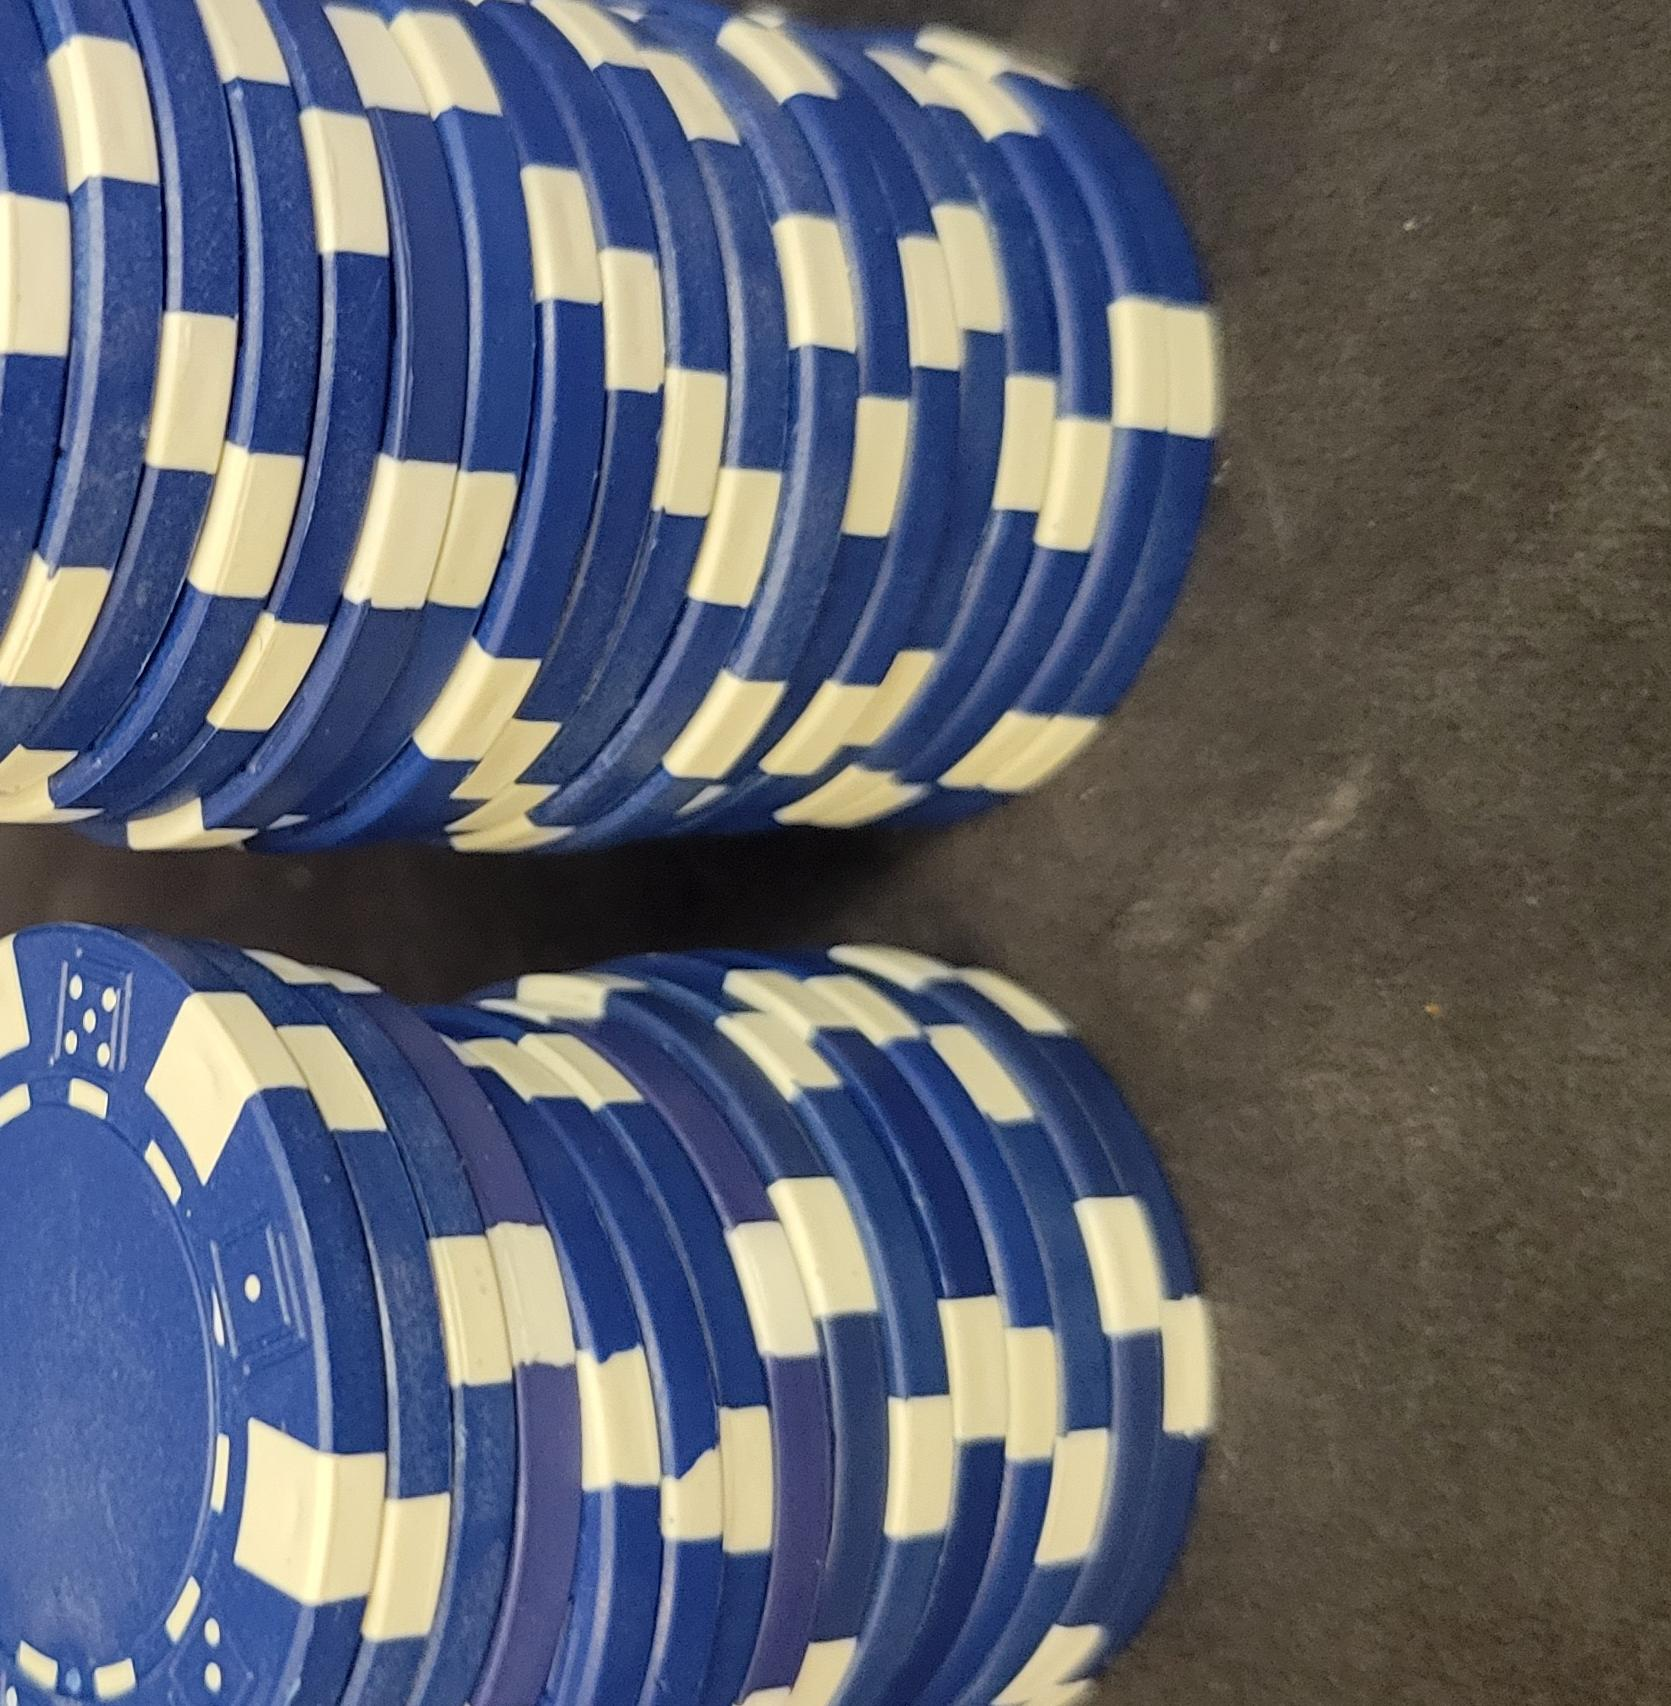Chip: (2, 226, 790, 1706)
